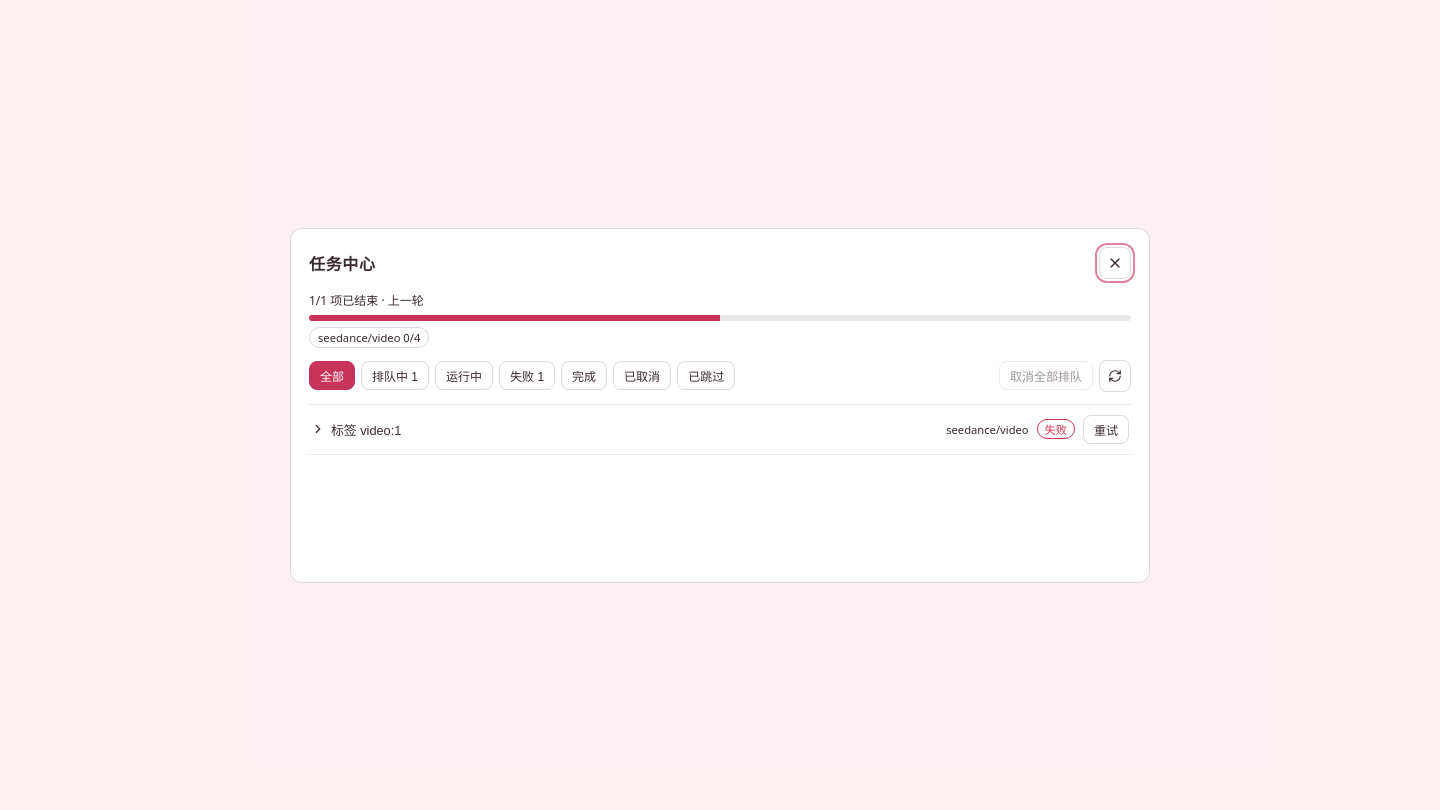
Test: TaskCenter › shows the error and log of a job when it is opened
Click the button "标签 video:1". click: (366, 430)
box: 311,420 -> 938,438
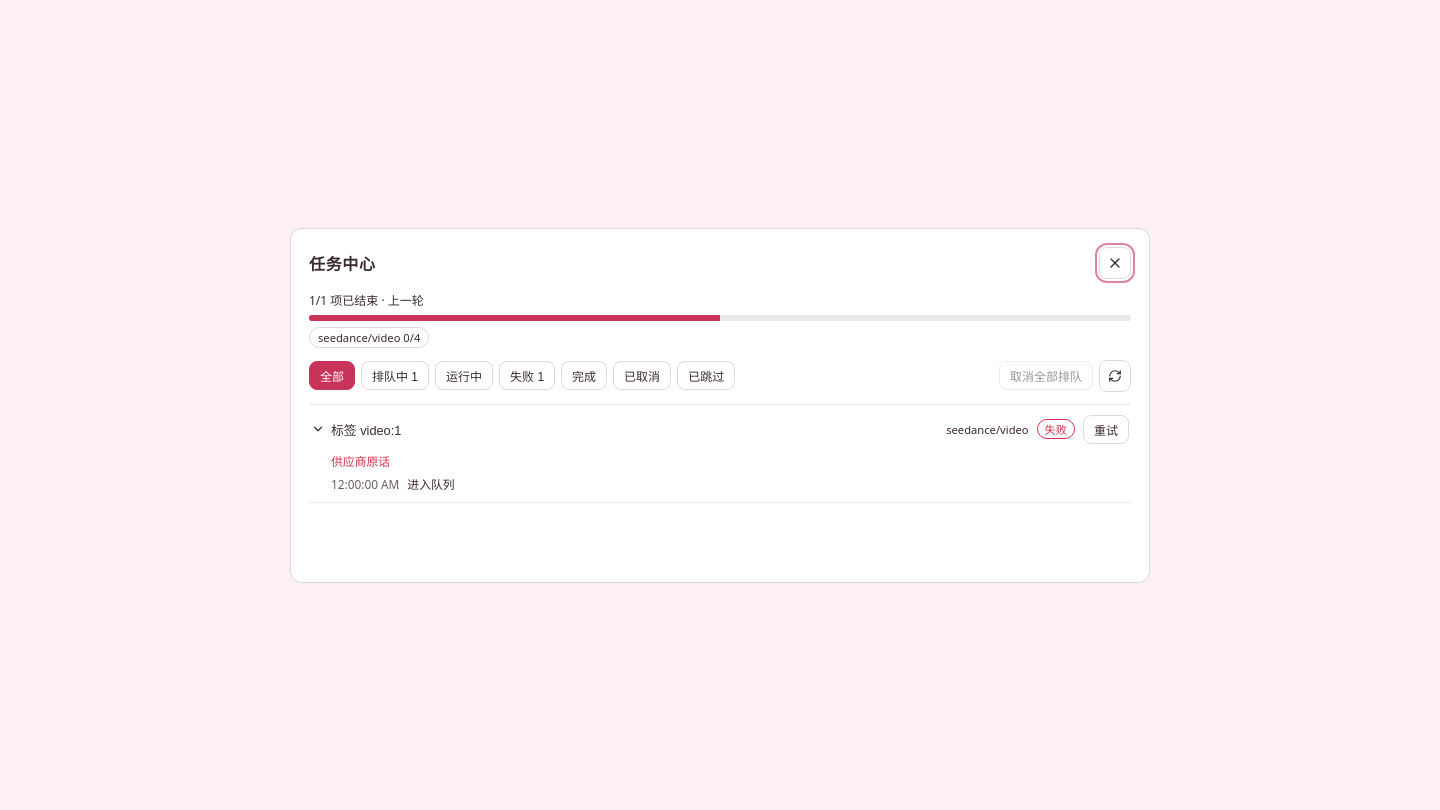
Result: the text "供应商原话" is shown at 331,452 -> 390,468
Result: the list item "进入队列" is shown at 407,476 -> 455,492
